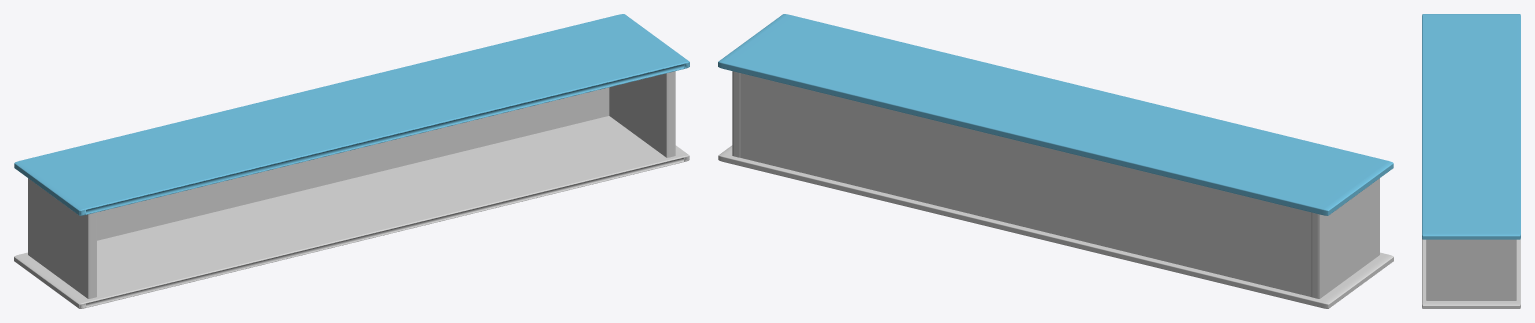
File: Verylongdesk.fbx
The picture shows the model from 3 angles, left to right: view 1: azimuth 30°, elevation 25°; view 2: azimuth 150°, elevation 25°; view 3: azimuth 270°, elevation 25°; orthographic projection. The views are drawn at different scales.
Parts seen in each view (by area): view 1: Cube.003; view 2: Cube.003; view 3: Cube.003.
Part boxes in pixels (x1,y1,x2,y2): Cube.003: (14,14,689,308); Cube.003: (718,14,1393,308); Cube.003: (1422,14,1520,308).
Bounding box in the file's own units: 8496 × 1323 × 1598.
